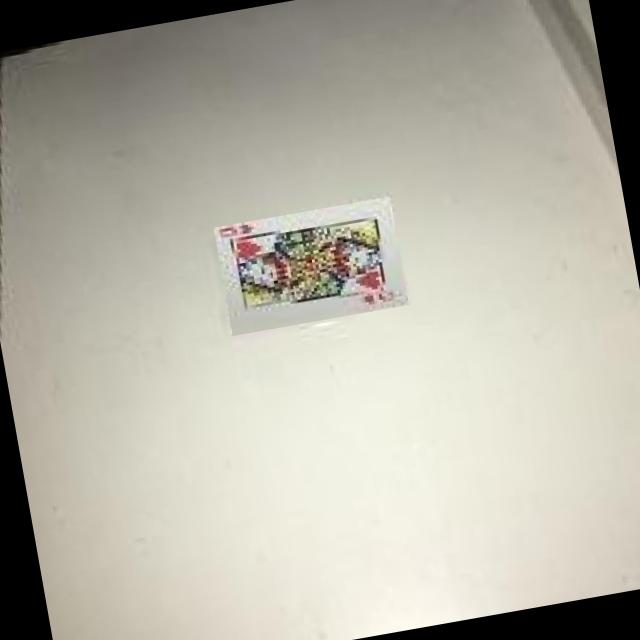Queen of hearts: (215, 200, 406, 328)
